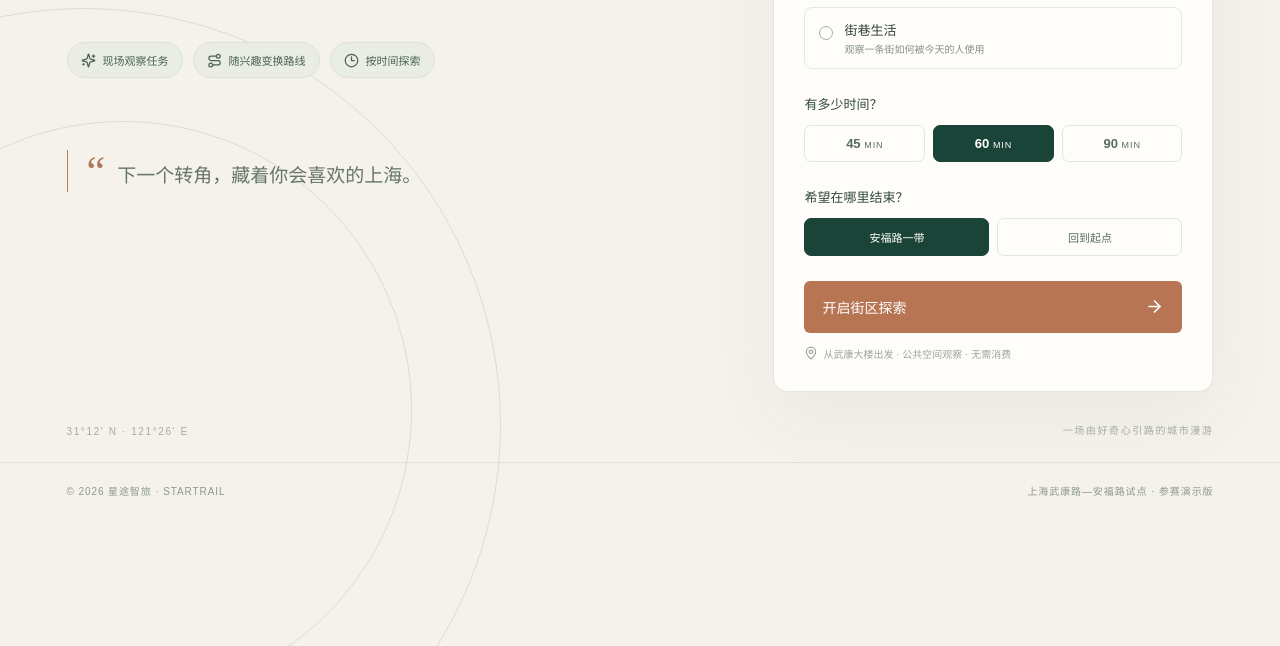
Test: recovery and accurate records › skips without claiming a discovery or spending the full dwell time
The image size is (1280, 646).
(page scrolled)
Click the button "开启街区探索" at (864, 308), box [804,281,1182,333]
(page scrolled)
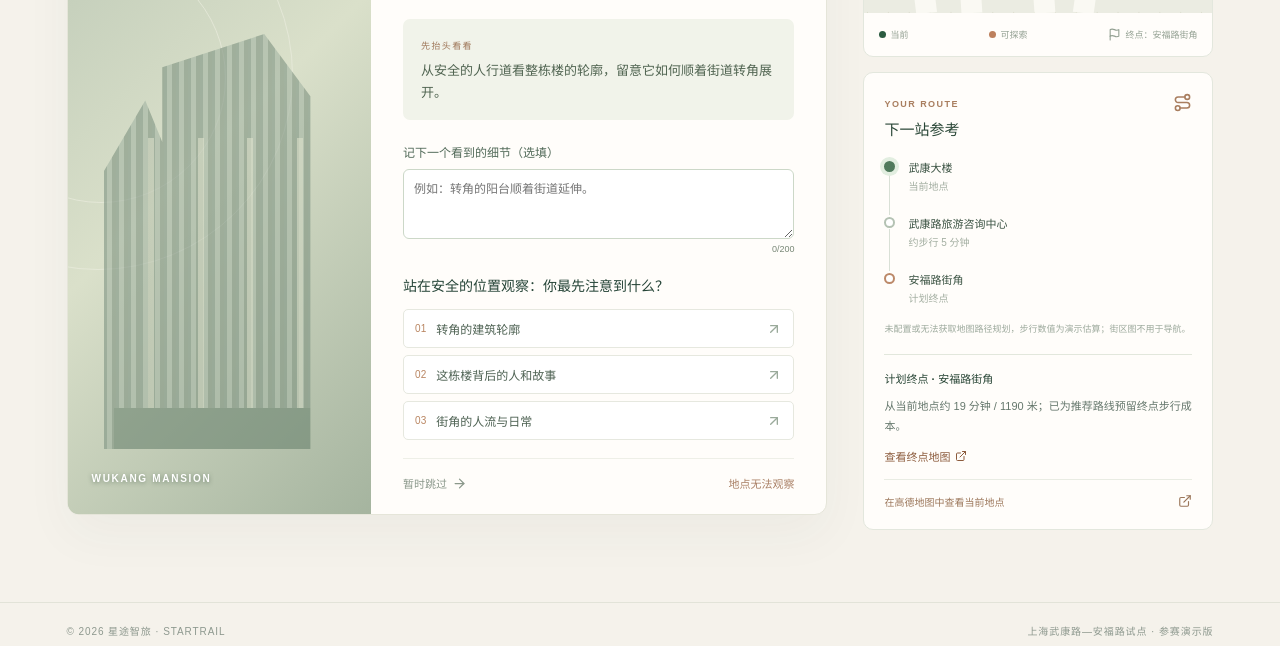
Click the button "暂时跳过" at (435, 483), box [403,475,467,491]
(page scrolled)
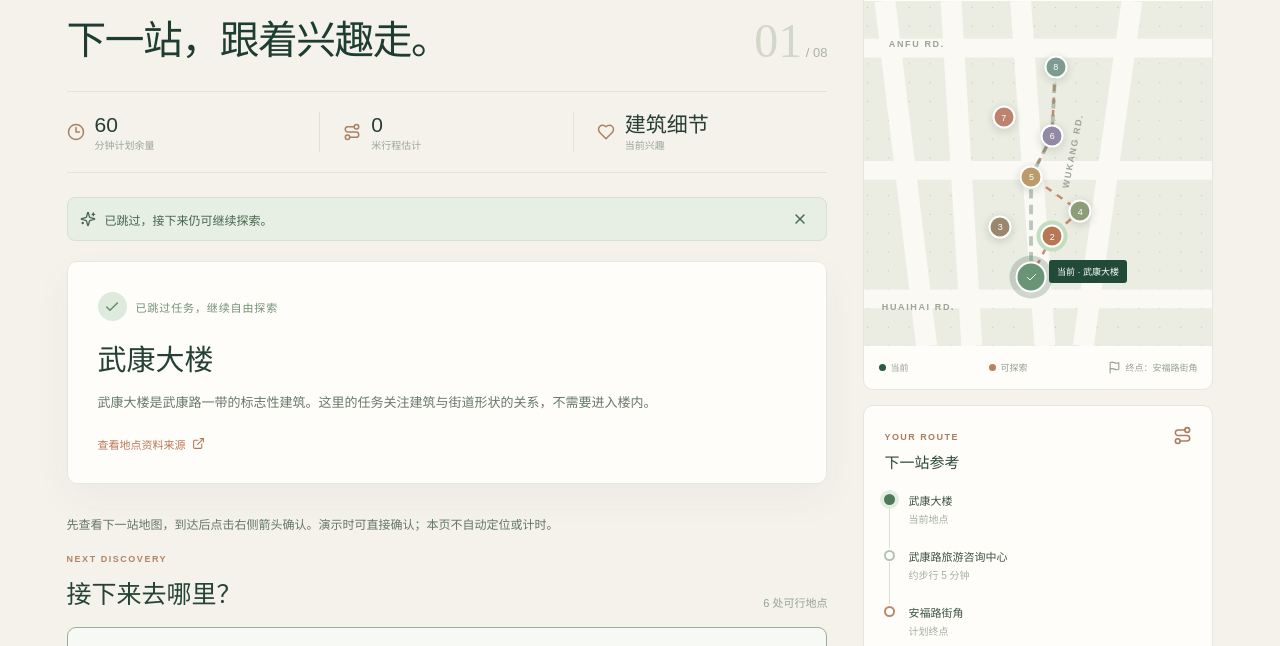
Result: the text "已跳过任务，继续自由探索" is shown at [98,292,278,321]
